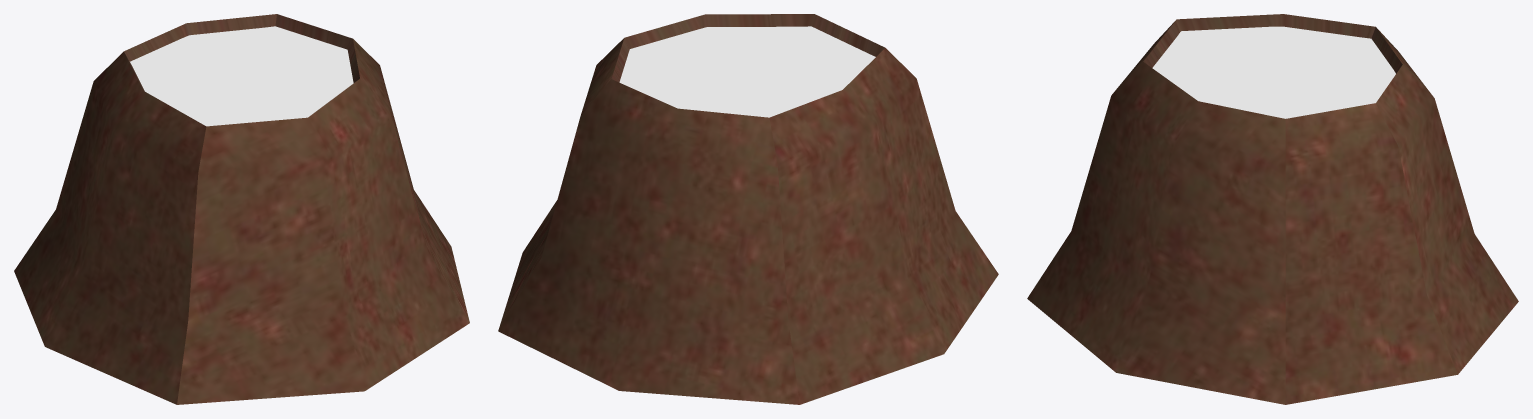
File: HotSpring3.fbx
3 renders of one model, left to right at view 1: azimuth 30°, elevation 25°; view 2: azimuth 150°, elevation 25°; view 3: azimuth 270°, elevation 25°, orthographic. The views are drawn at different scales.
Visible parts, largest first — view 1: HotSpring3; view 2: HotSpring3; view 3: HotSpring3.
Boxes of the visible parts, x1=… form: HotSpring3: x1=14, y1=14, x2=469, y2=404; HotSpring3: x1=498, y1=14, x2=998, y2=404; HotSpring3: x1=1027, y1=14, x2=1518, y2=404.
Bounding box in the file's own units: 19750 × 19295 × 10500.
Materials: 2 (1 with a texture image).
